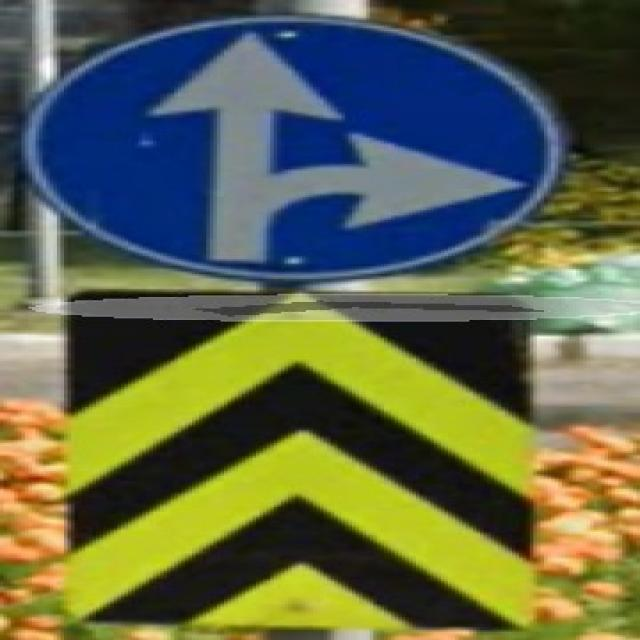Straight or Right: (19, 16, 563, 277)
